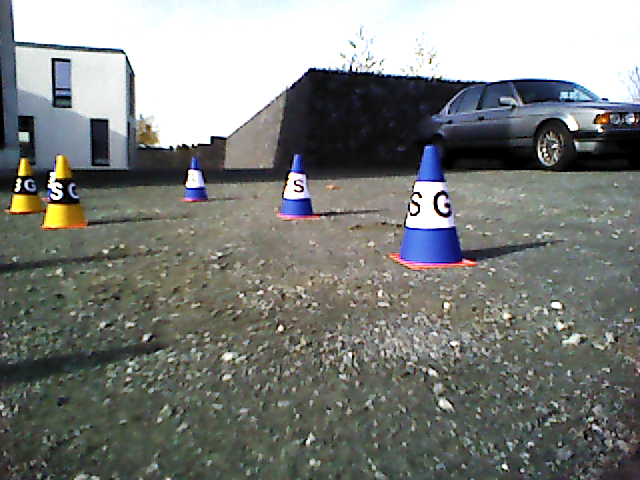bluecone: (402, 145, 463, 261), (282, 154, 314, 215), (185, 157, 206, 198)
yellowcone: (44, 156, 83, 225), (10, 158, 42, 211)
